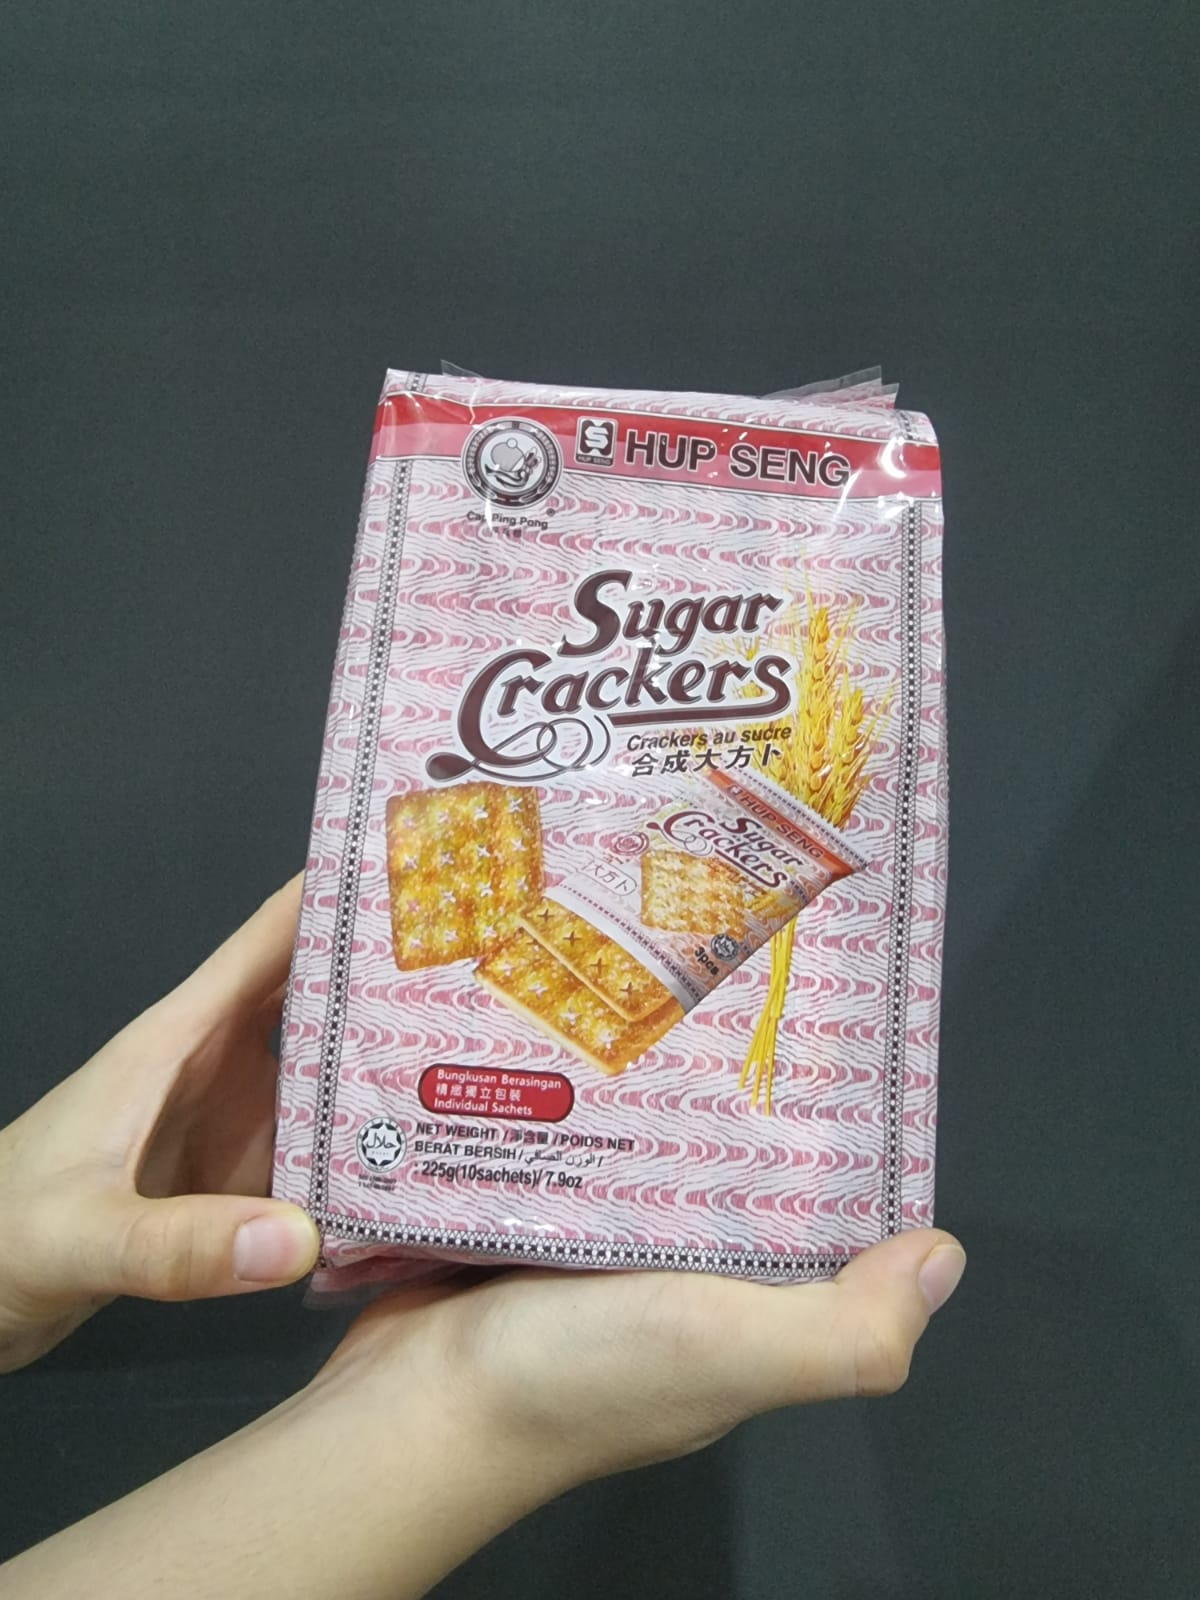Biscuits: (379, 411, 919, 1220)
